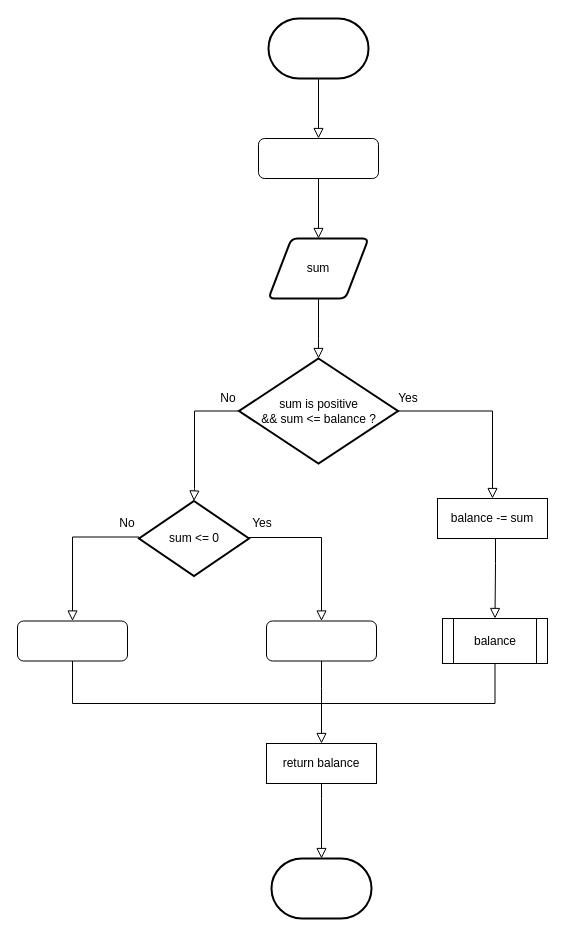
This 565x936 diagram has some shape labels left out. Each missing label, with the box of its shape:
enter sum to withdraw: (258, 138, 378, 178)
not enough money on the card: (16, 620, 128, 661)
the sum must be greater than zero: (266, 620, 376, 661)
